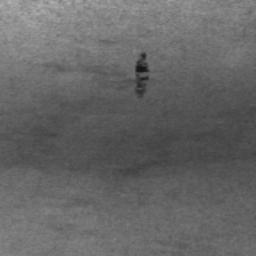Secondary rust skin: (133, 52, 150, 98)
